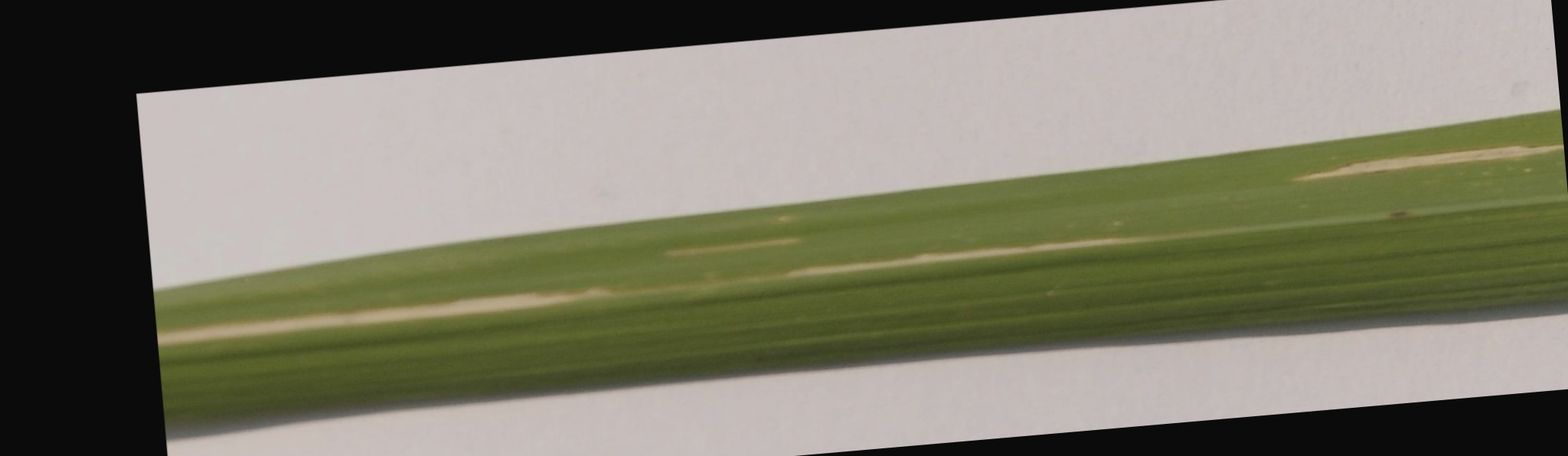Leaf_Blast: (158, 267, 1217, 301), (1283, 135, 1568, 193)
